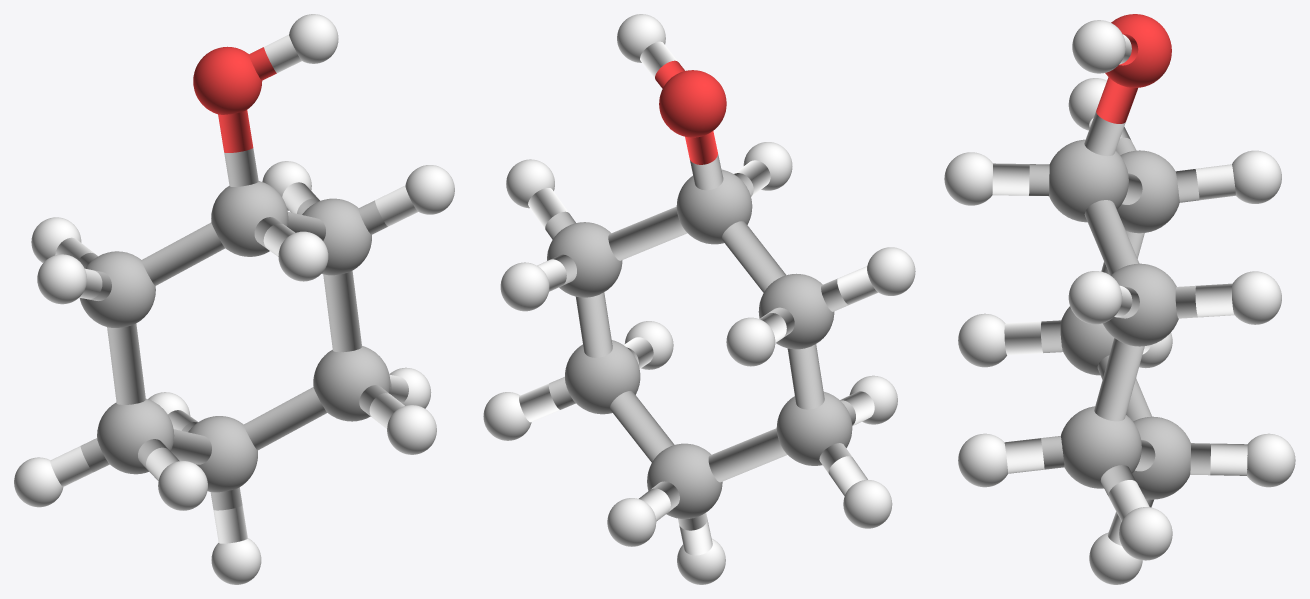
Rendered from cyclohexanol_molecule.glb.
3 renders of one model, left to right at view 1: azimuth 30°, elevation 25°; view 2: azimuth 150°, elevation 25°; view 3: azimuth 270°, elevation 25°, orthographic. The views are drawn at different scales.
Parts seen in each view (by area): view 1: Object_3, Object_7, Object_4, Object_6, Object_5; view 2: Object_3, Object_7, Object_4, Object_6, Object_5; view 3: Object_3, Object_7, Object_6, Object_4, Object_5.
Part boxes in pixels (<box>): Object_3: <box>79,198,390,492</box>; Object_7: <box>14,34,454,543</box>; Object_4: <box>78,148,391,510</box>; Object_6: <box>31,14,431,584</box>; Object_5: <box>193,46,276,152</box>; Object_3: <box>545,211,855,519</box>; Object_7: <box>500,41,915,555</box>; Object_4: <box>548,154,848,530</box>; Object_6: <box>483,14,792,584</box>; Object_5: <box>655,60,726,164</box>; Object_3: <box>1041,150,1210,499</box>; Object_7: <box>958,34,1281,545</box>; Object_6: <box>944,20,1295,584</box>; Object_4: <box>1029,111,1199,507</box>; Object_5: <box>1096,14,1171,123</box>.
Bounding box in the file's own units: 4.81 × 6.2 × 3.31.
